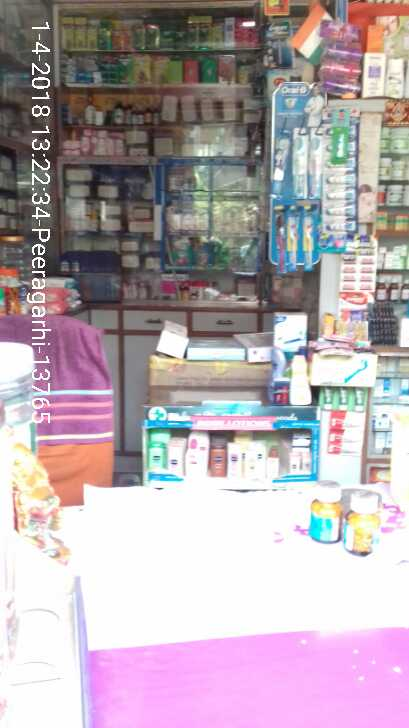oralcare: (276, 78, 323, 274)
